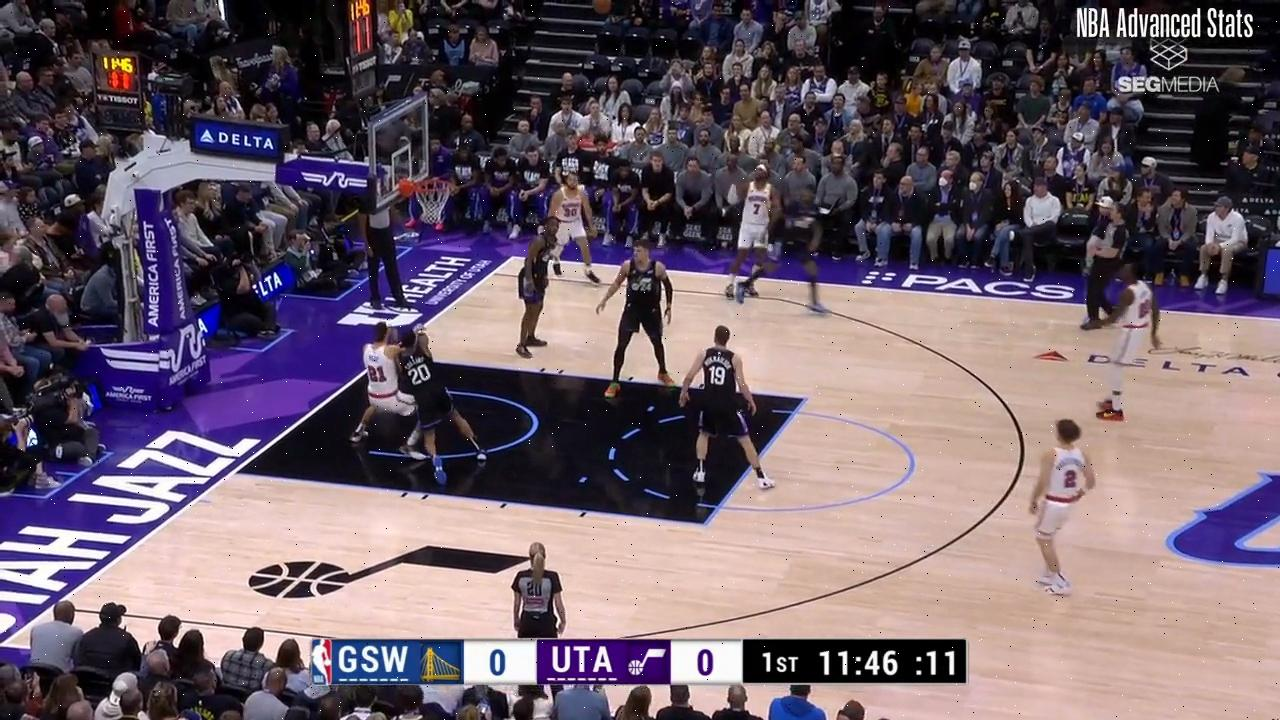basketball: (587, 0, 617, 14)
